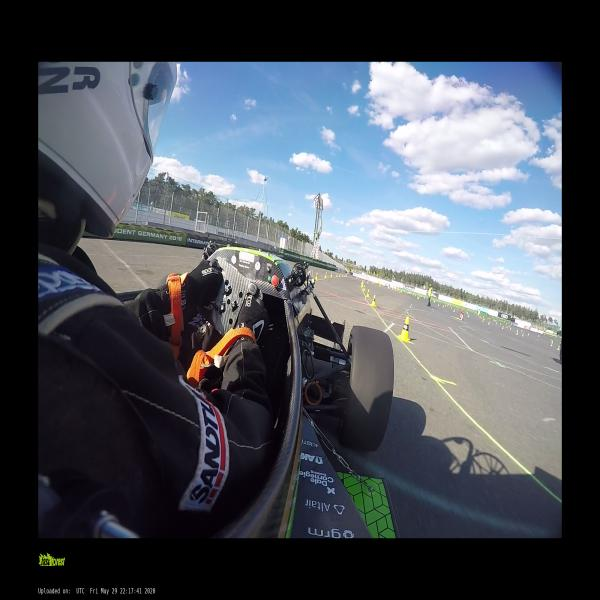yellow_cone: (398, 317, 411, 342), (371, 294, 376, 306), (314, 272, 318, 280), (330, 272, 333, 278), (361, 282, 364, 288), (367, 290, 369, 298), (325, 272, 327, 279), (335, 273, 338, 277), (557, 346, 560, 350), (521, 333, 524, 337), (516, 330, 518, 335), (338, 274, 340, 278)
